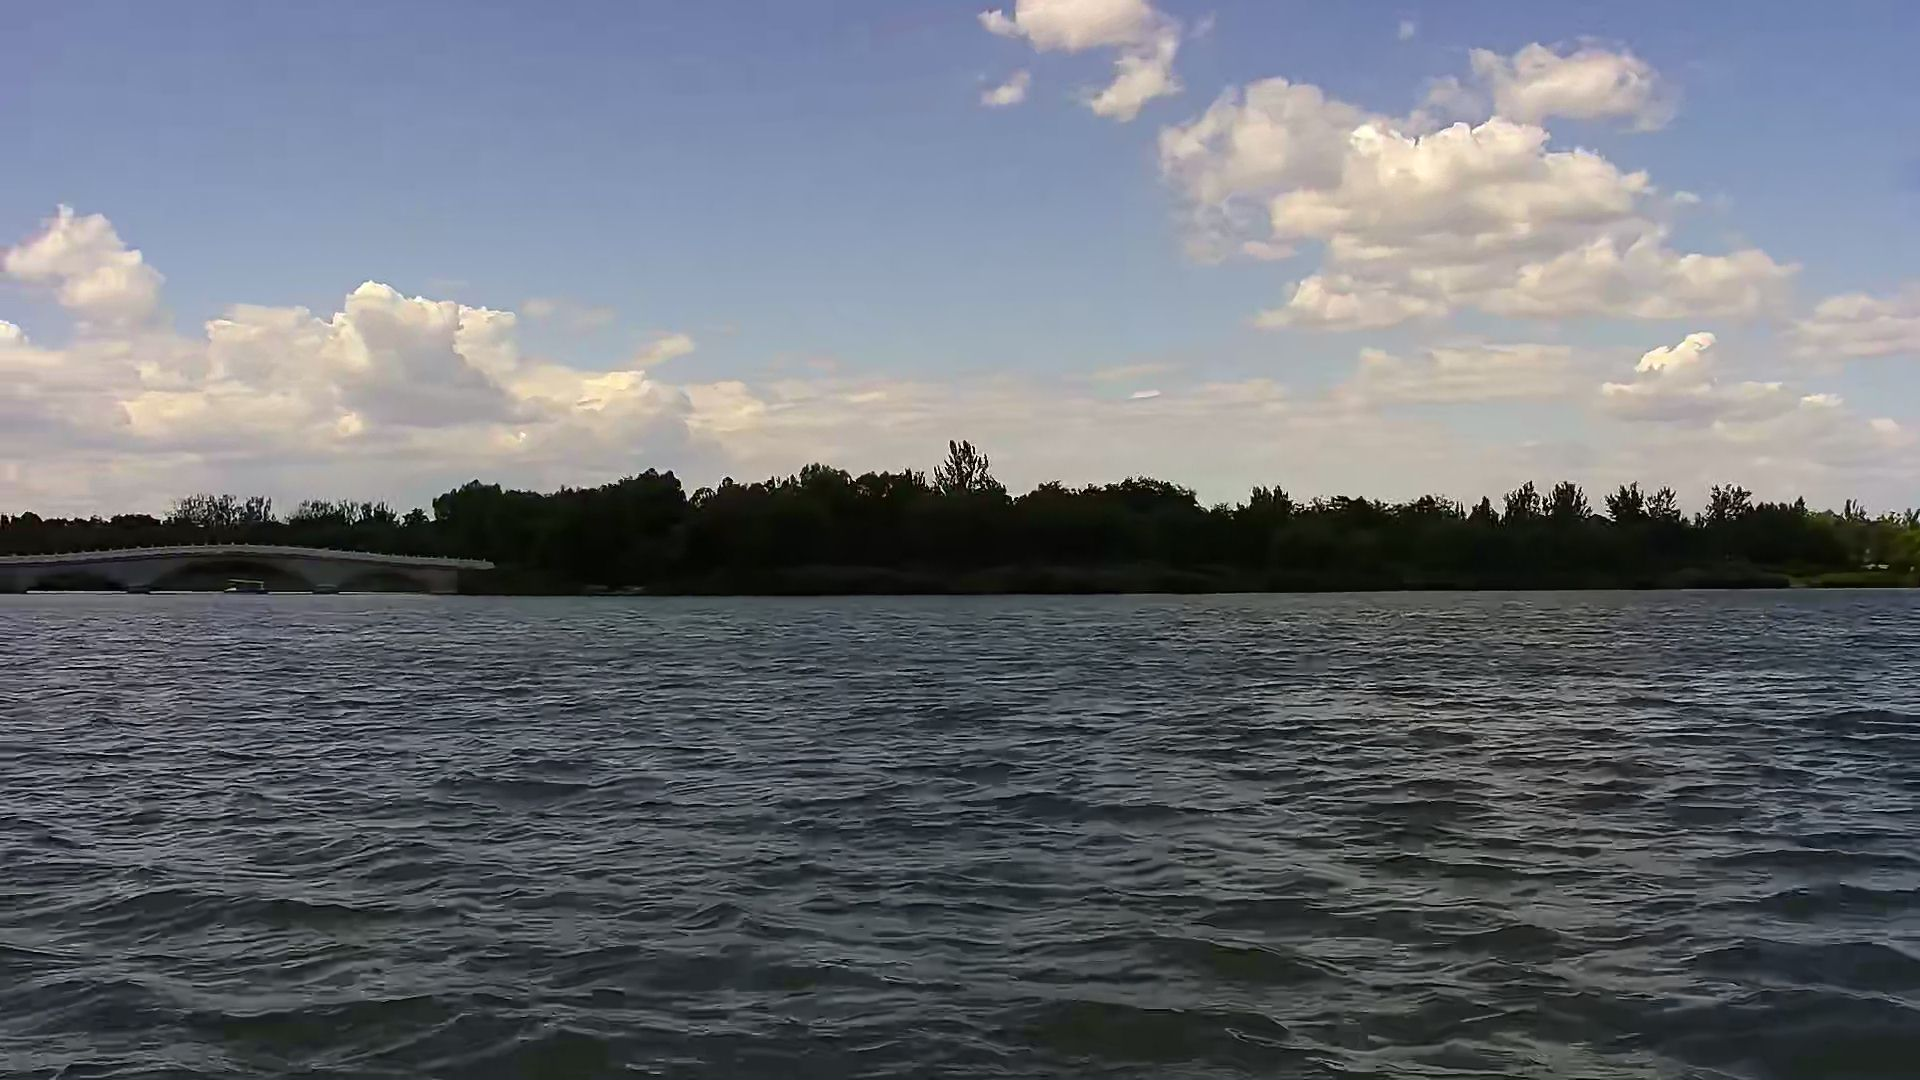boat: (216, 575, 276, 599)
bridge: (1, 547, 491, 597)
